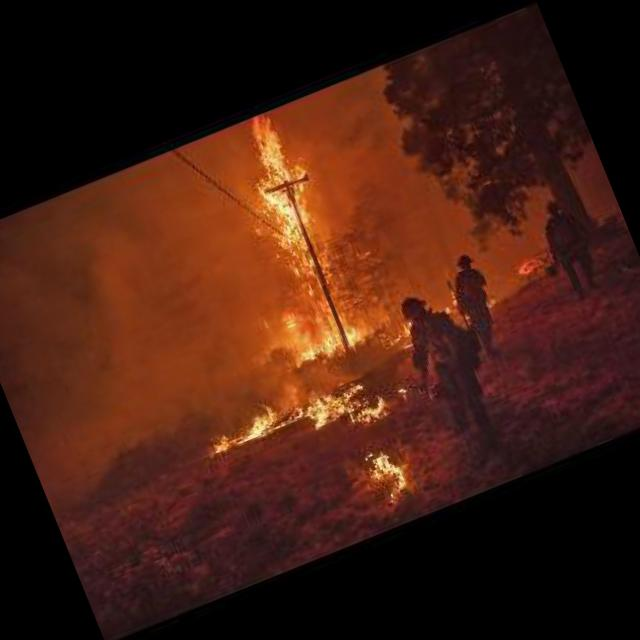fire: (103, 102, 424, 477), (356, 434, 425, 507)
